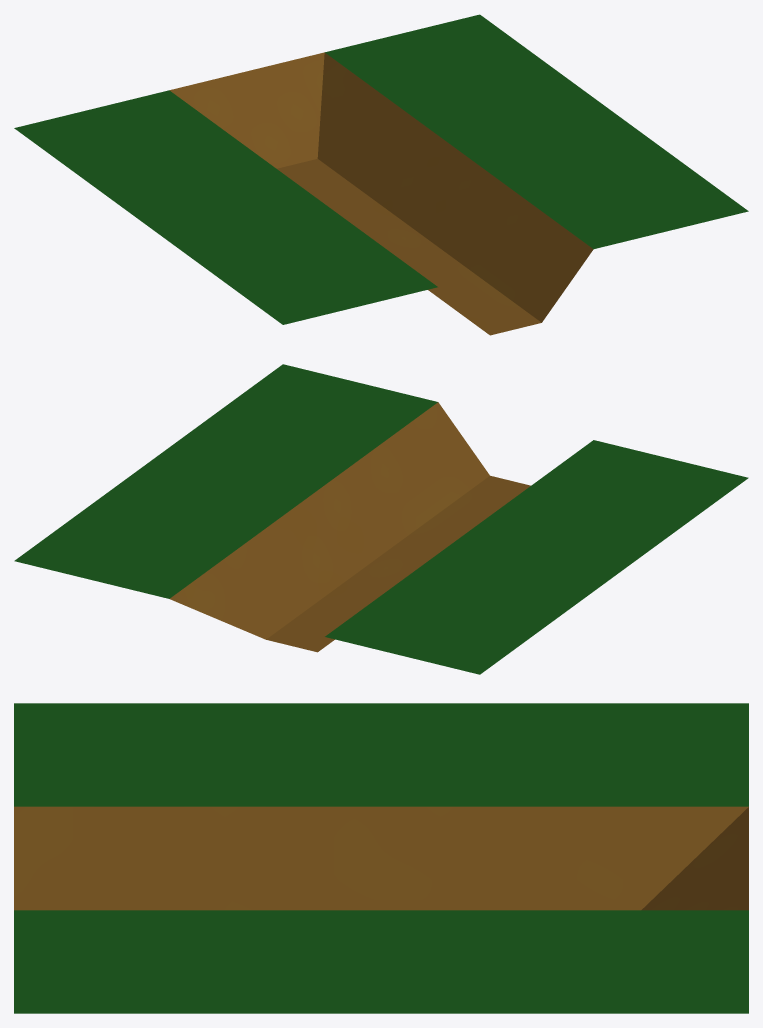
Rendered from trench1.glb.
The picture shows the model from 3 angles, top to bottom: view 1: azimuth 30°, elevation 25°; view 2: azimuth 150°, elevation 25°; view 3: azimuth 270°, elevation 25°; orthographic projection. The views are drawn at different scales.
Visible parts, largest first — view 1: Trench1; view 2: Trench1; view 3: Trench1.
Boxes of the visible parts, box(x1,y1,x2,y2) form: Trench1: box(14, 14, 748, 335); Trench1: box(14, 364, 748, 674); Trench1: box(14, 703, 748, 1013).
Size of the model in its own units: 2 by 0.25 by 2.
1 material, 1 textured.
